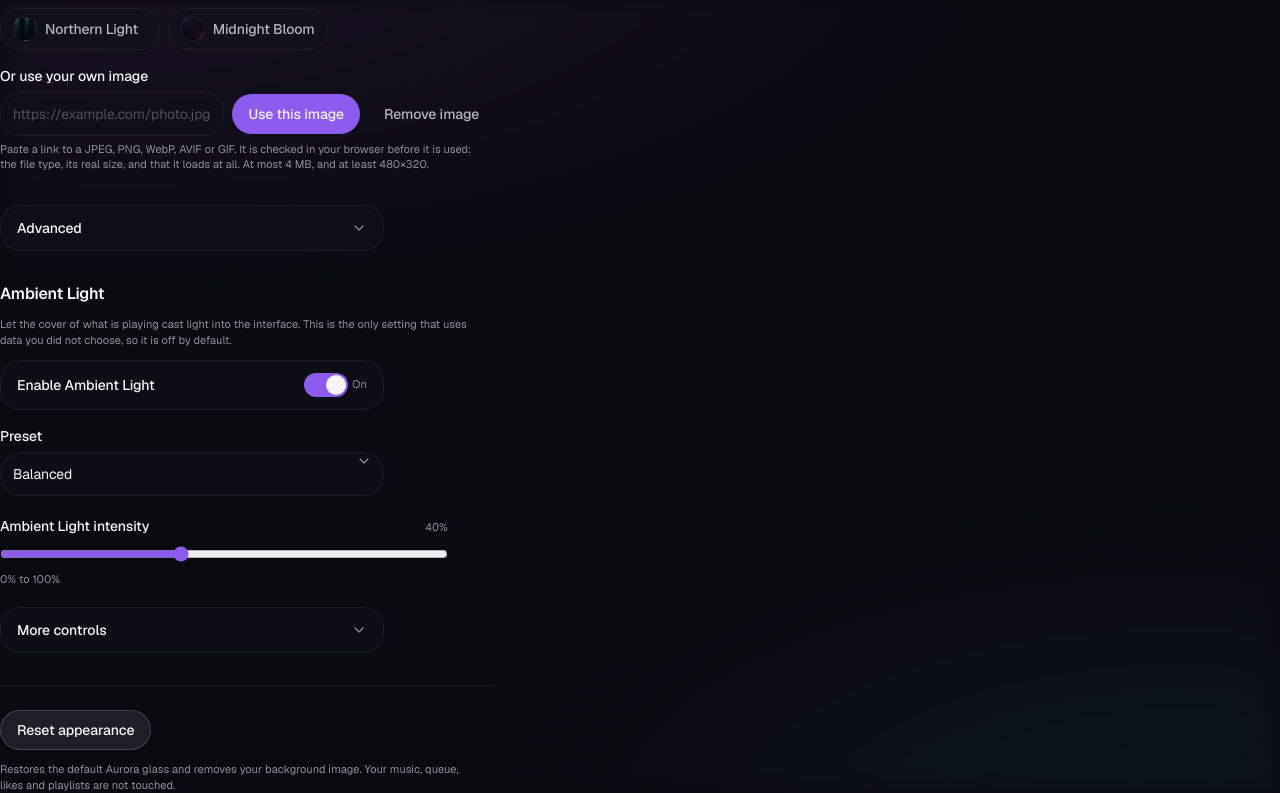
Appearance panel: Ambient Light is a first-class, progressive setting › keeps the six refinements behind one disclosure
(page scrolled)
Step 1. Click the button with test id "ambient-more-toggle" → point(62, 630), box [0,607,384,653]
(page scrolled)
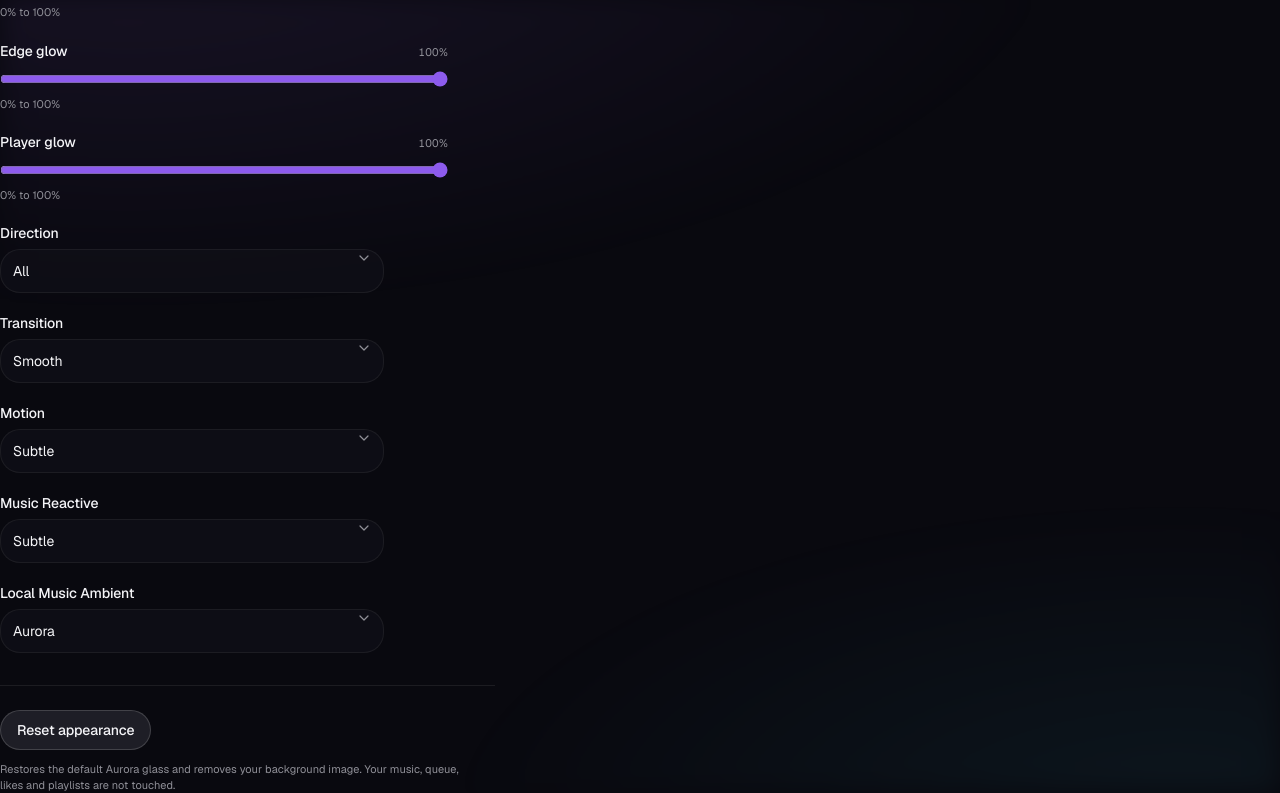
expect the button with test id "ambient-ambientDirection" is shown: met, box [0,249,384,293]
expect the button with test id "ambient-ambientTransition" is shown: met, box [0,339,384,383]
expect the button with test id "ambient-ambientMotion" is shown: met, box [0,429,384,473]
